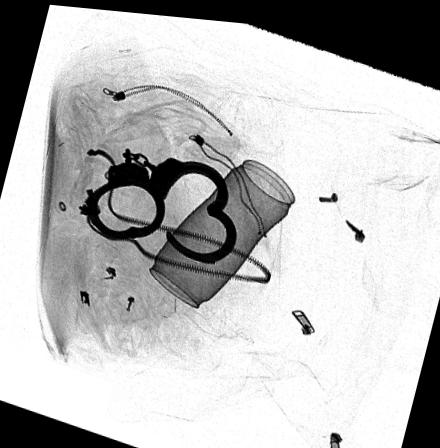HandCuffs: (79, 152, 238, 263)
